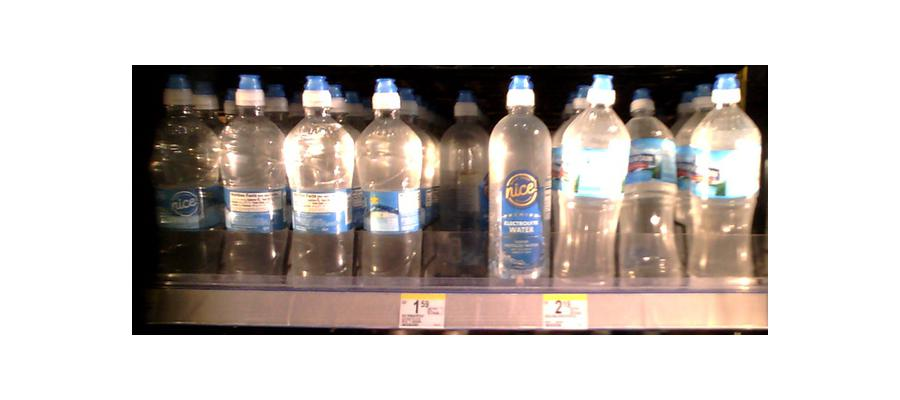bottle: (553, 77, 631, 295), (689, 75, 759, 284), (358, 81, 428, 283), (218, 80, 287, 281), (286, 82, 354, 283), (149, 75, 217, 276), (489, 78, 552, 286), (624, 88, 688, 286), (438, 91, 487, 273)
